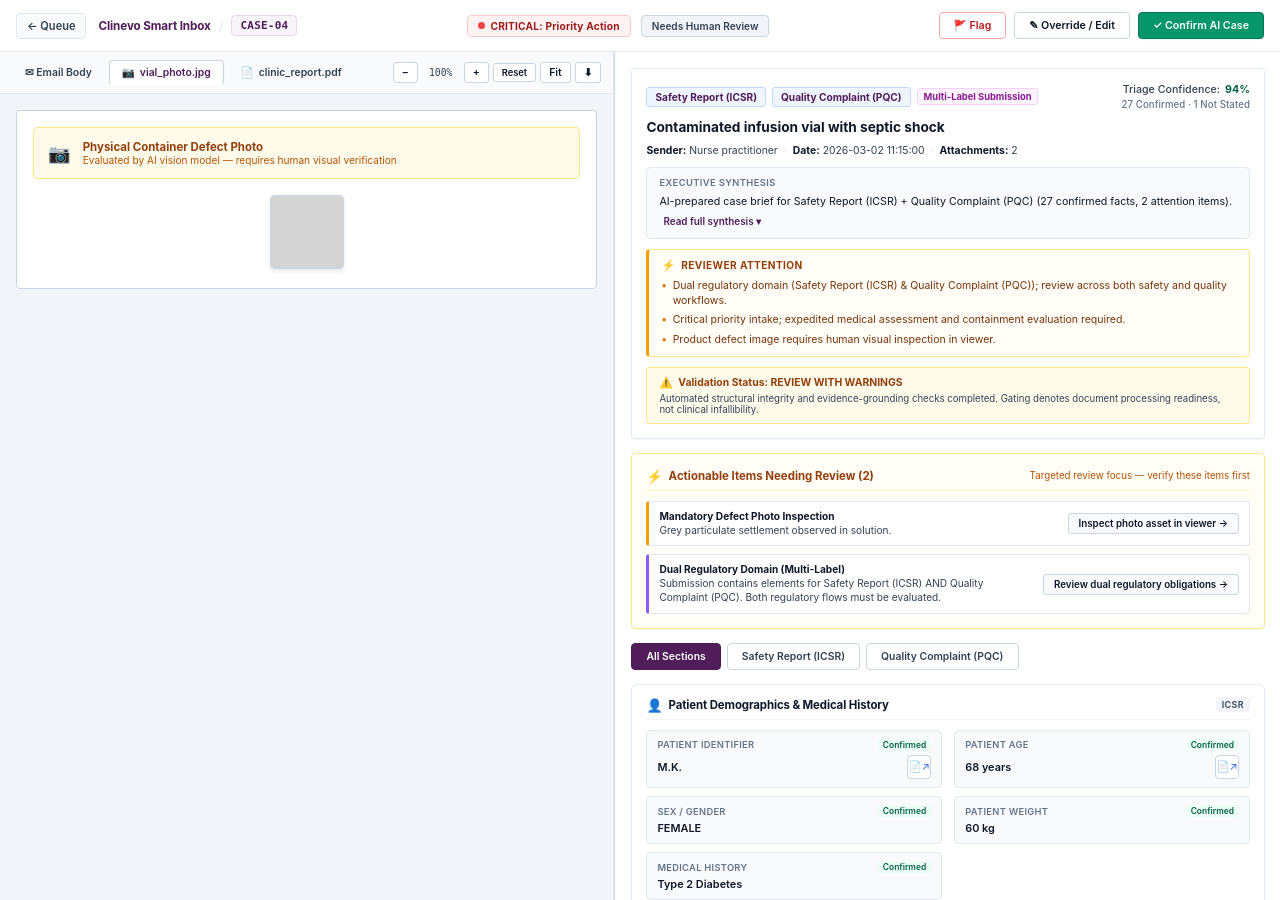
Test case: CaseWorkspaceComponent › keeps Executive Synthesis collapsed by default and toggles inline on user action
Expected: the text with class "synthesis-body" is shown, [659,194,1237,209]
Click to expand
Click the button with id "btn-toggle-synthesis" at (712, 221), box [659,214,765,228]
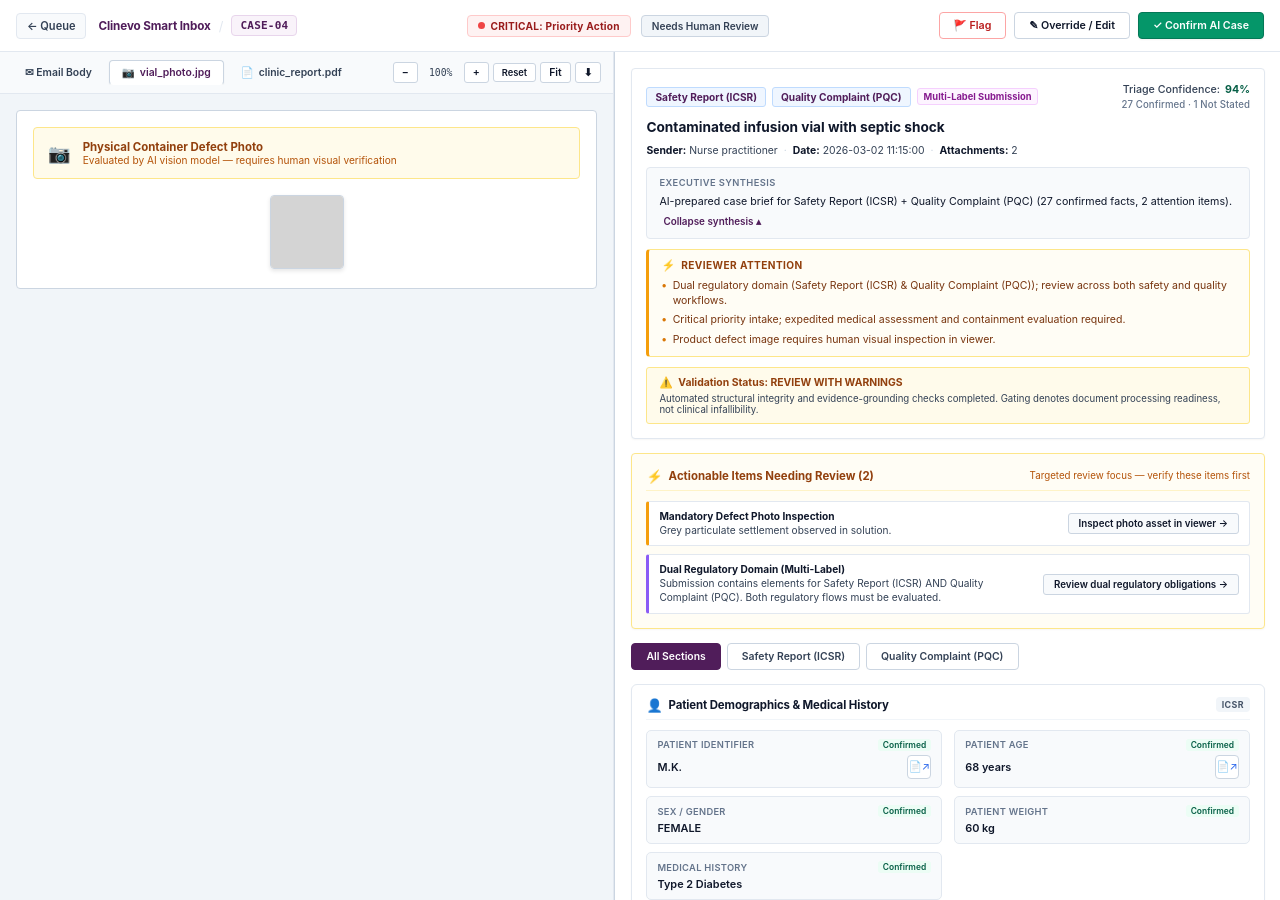
Expected: the button with id "btn-toggle-synthesis" shows "Collapse synthesis"
Click again to collapse
Click the button with id "btn-toggle-synthesis" at (712, 221), box [659,214,765,228]
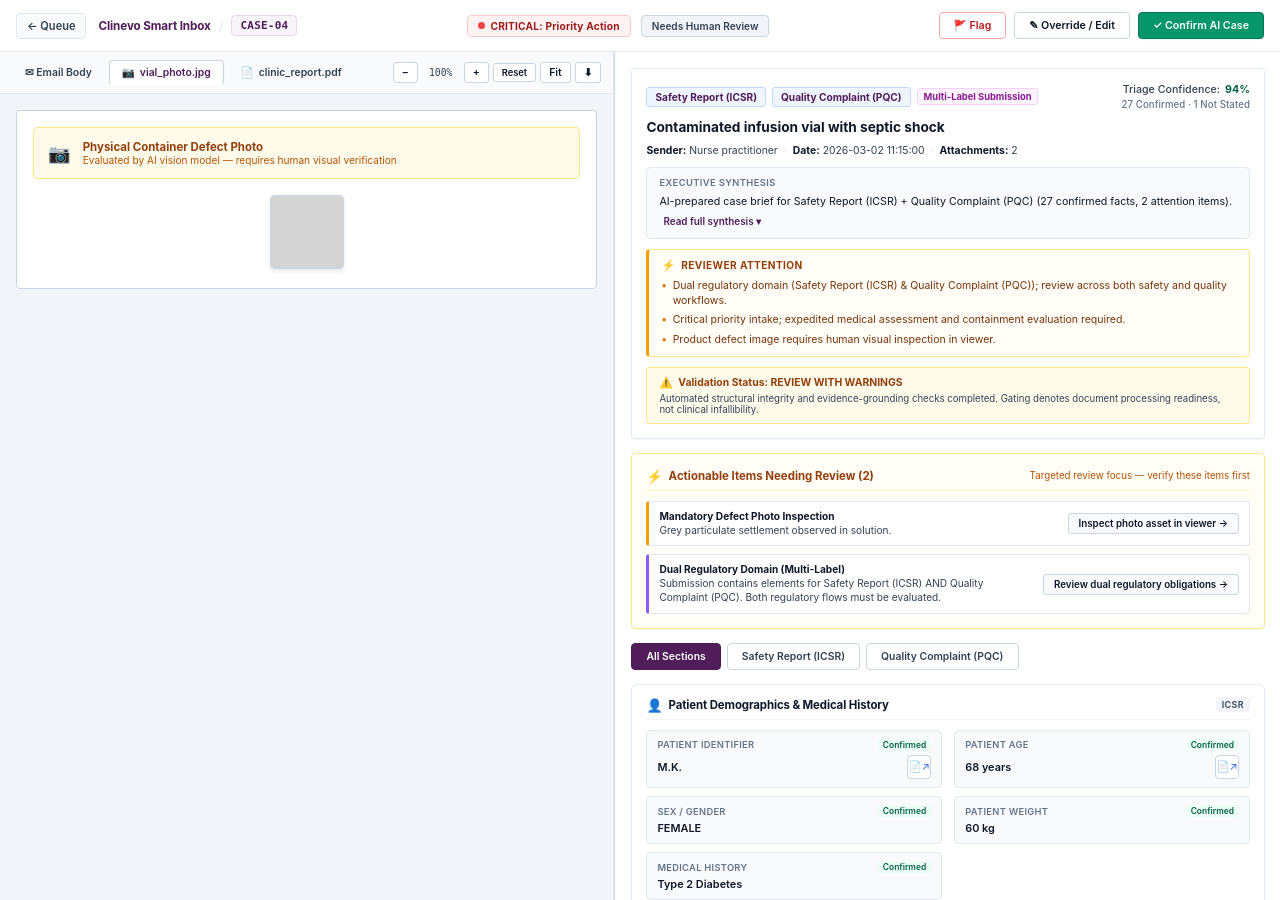
Expected: the button with id "btn-toggle-synthesis" shows "Read full synthesis", [659,214,765,228]
